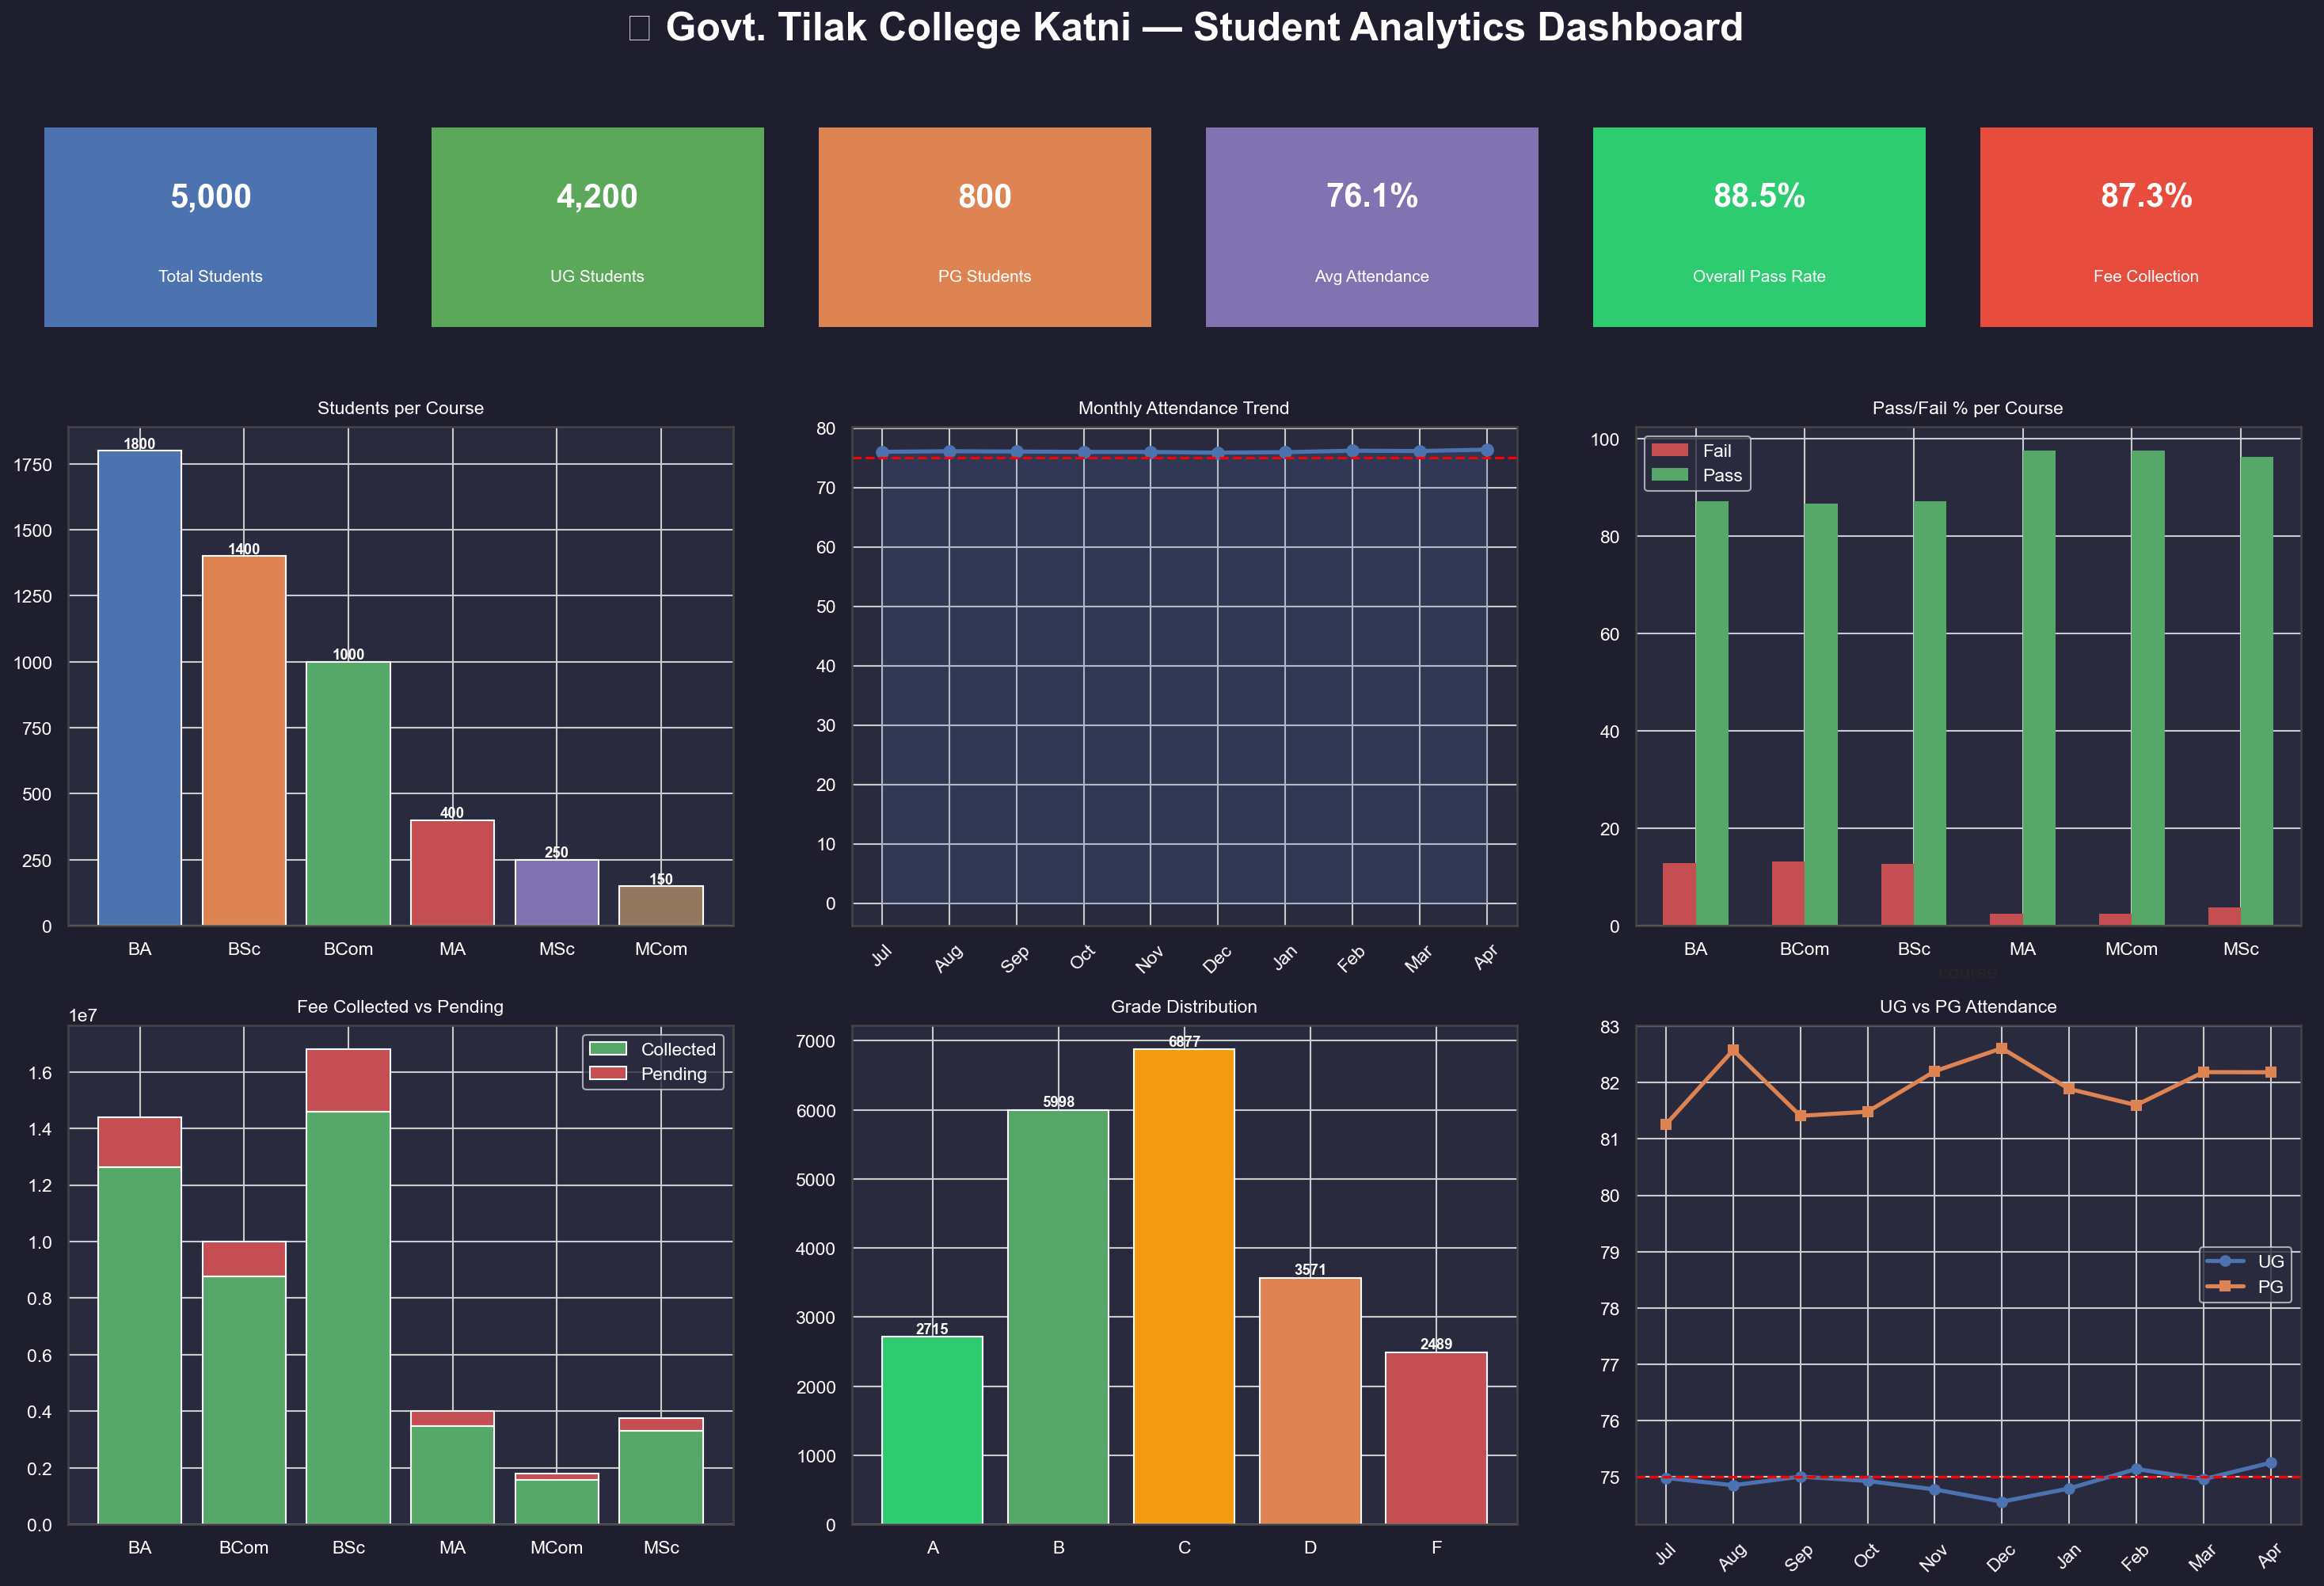

Layout of this report page (visuals, bound fields, positions):
{"tool":"powerbi","page":{"name":"Page 1","canvas":[1281,720],"ordinal":0},"visuals":[{"type":"card","fields":{"Values":["Count(students.student_id)"]},"box":[16.3,63.4,248.9,133.4],"z":0},{"type":"card","fields":{"Values":["Avg(avg_attendance.overall_attendance_pct)"]},"box":[276.5,63.4,260.2,133.4],"z":1000},{"type":"card","fields":{"Values":["CountNonNull(marks.result)"]},"box":[548.1,61.8,234.2,135],"z":2000},{"type":"card","fields":{"Values":["Sum(students.fee_paid)"]},"box":[793.8,61.8,218,135],"z":3000},{"type":"lineClusteredColumnComboChart","title":"Count Students by course","fields":{"Y":["CountNonNull(marks.student_id)"],"Category":["marks.course"]},"box":[16.3,219.6,561.2,265.1],"z":4000},{"type":"lineChart","title":"Avg of attendance by month","fields":{"Category":["attendance.month"],"Y":["Avg(attendance.attendance_pct)"]},"box":[902.7,505.9,364.3,214.7],"z":5000},{"type":"hundredPercentStackedBarChart","title":"Pass/Fail per Course","fields":{"Category":["marks.course"],"Y":["CountNonNull(marks.result)"],"Series":["marks.result"]},"box":[592.1,219.6,296,265.1],"z":6000},{"type":"donutChart","title":"Fee Collection Status","fields":{"Category":["students.fee_status"],"Y":["Sum(students.fee_total)"]},"box":[902.7,219.6,364.3,265.1],"z":7000},{"type":"pieChart","title":"Grade Distribution","fields":{"Category":["marks.grade"],"Y":["CountNonNull(marks.student_id)"]},"box":[592.1,505.9,296,214.7],"z":8000},{"type":"lineChart","title":"Avg of attendance by month and course","fields":{"Category":["attendance.month"],"Y":["Avg(attendance.attendance_pct)"],"Series":["attendance.course_type"]},"box":[16.3,505.9,561.2,214.7],"z":9000},{"type":"slicer","fields":{"Values":["attendance.course"]},"box":[1036.1,63.4,213.1,133.4],"z":10000},{"type":"textbox","box":[0,0,1267.1,48.8],"z":11000}]}

Visuals, with their boxes on the page's 1281x720 design canvas (x1, y1, x2, y2). These are canvas units, not pixel positions in the 2324x1586 screenshot, which may show the page scaled, cropped or inside an application window:
card - Count(students.student_id): box=[16, 63, 265, 197]
card - Avg(avg_attendance.overall_attendance_pct): box=[276, 63, 537, 197]
card - CountNonNull(marks.result): box=[548, 62, 782, 197]
card - Sum(students.fee_paid): box=[794, 62, 1012, 197]
"Count Students by course" lineClusteredColumnComboChart: box=[16, 220, 578, 485]
"Avg of attendance by month" lineChart: box=[903, 506, 1267, 721]
"Pass/Fail per Course" hundredPercentStackedBarChart: box=[592, 220, 888, 485]
"Fee Collection Status" donutChart: box=[903, 220, 1267, 485]
"Grade Distribution" pieChart: box=[592, 506, 888, 721]
"Avg of attendance by month and course" lineChart: box=[16, 506, 578, 721]
slicer - attendance.course: box=[1036, 63, 1249, 197]
textbox: box=[0, 0, 1267, 49]
